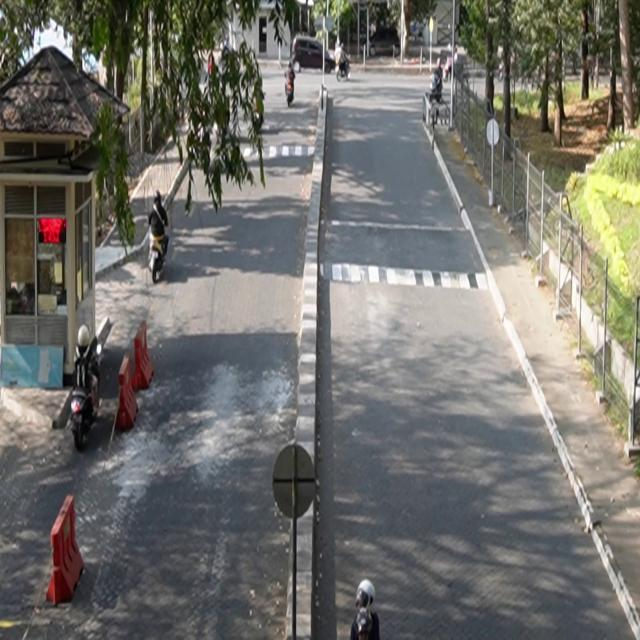car: (292, 36, 336, 74)
